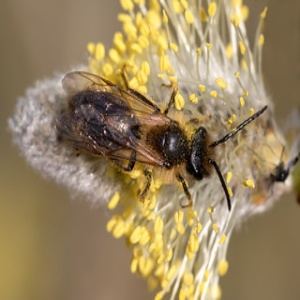bee: (54, 69, 271, 220)
